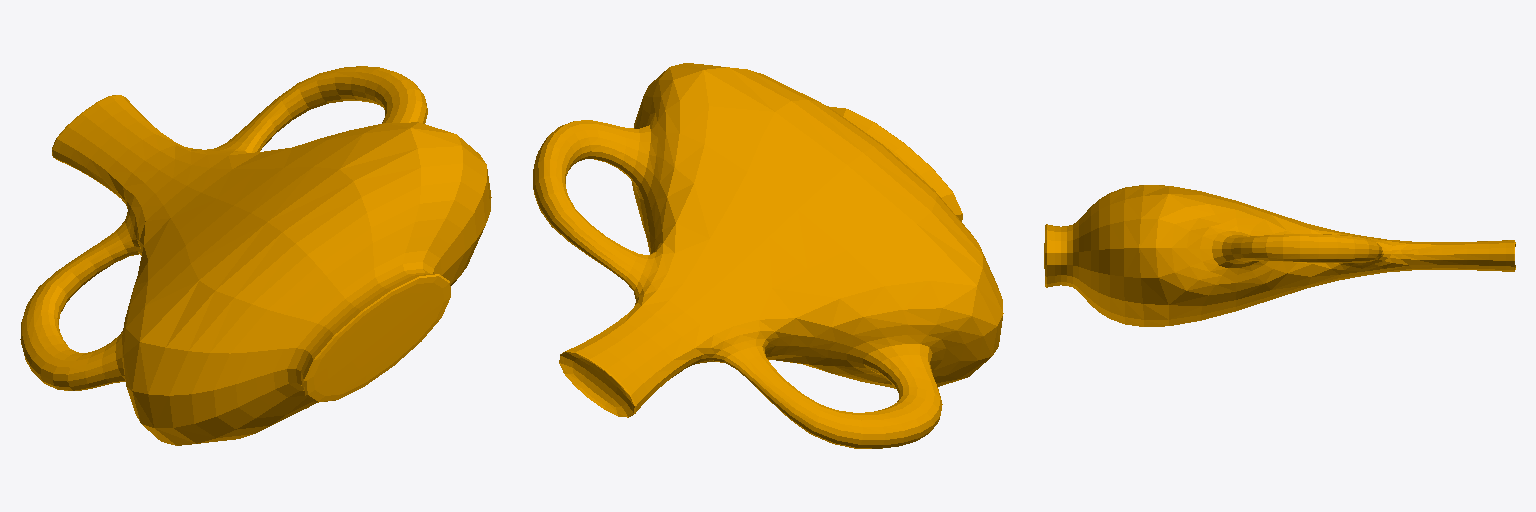
URDF robot description (104):
<?xml version="1.0" ?>
<robot name="104">
  <link name="body">
    <visual>
      <geometry>
        <mesh filename="../shapes/104.obj"/>
      </geometry>
    </visual>
    <collision>
      <geometry>
        <mesh filename="../shapes/104.obj"/>
      </geometry>
    </collision>
  </link>
</robot>

--- What the picture shows (computed from the rendered views, not written in the file) ---
3 views of the same robot in one strip: view 1: azimuth 30°, elevation 25°; view 2: azimuth 150°, elevation 25°; view 3: azimuth 270°, elevation 25° (orthographic).
Model 104 with 1 links and 0 joints (none), rooted at body, posed all joints at 0.
Links seen in each view (by area): view 1: body; view 2: body; view 3: body.
Link boxes in pixels (box(x1,y1,x2,y2)): body: box(20, 66, 491, 445); body: box(533, 63, 1003, 448); body: box(1044, 185, 1515, 326).
Size in the robot's own frame: 5.95 by 7.91 by 3.88 metres.
Meshes: 1 distinct files referenced, 1 mesh visuals loaded (1 OBJ).